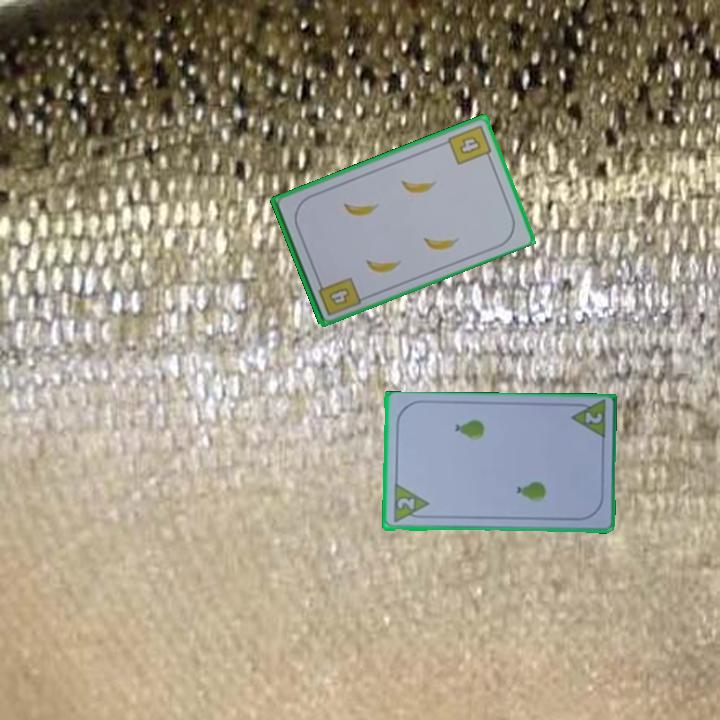2p: (566, 398, 608, 443), (390, 482, 431, 526)
4b: (444, 121, 495, 168), (314, 273, 364, 319)
